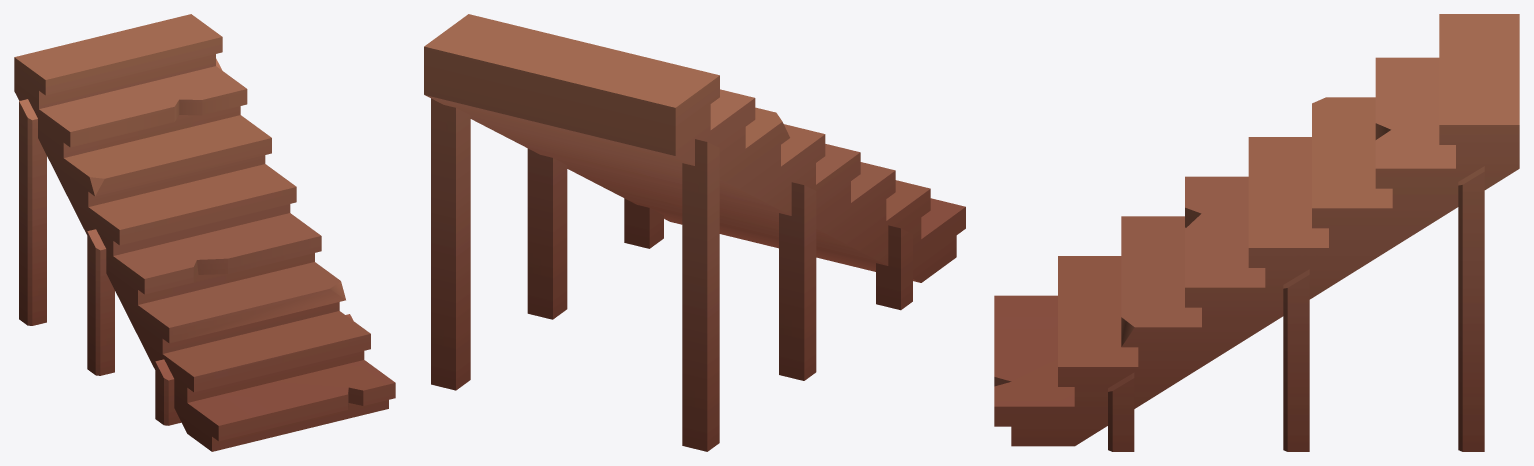
File: kaykit-dungeon-remastered-stairs-wood-gltf.glb
The picture shows the model from 3 angles, left to right: view 1: azimuth 30°, elevation 25°; view 2: azimuth 150°, elevation 25°; view 3: azimuth 270°, elevation 25°; orthographic projection. The views are drawn at different scales.
Visible parts, largest first — view 1: stairs_wood; view 2: stairs_wood; view 3: stairs_wood.
Boxes of the visible parts, x1,y1,x2,y2 form: stairs_wood: [14, 14, 395, 451]; stairs_wood: [424, 14, 965, 451]; stairs_wood: [994, 14, 1519, 451].
Size of the model in its own units: 3.3 by 4.05 by 6.
Materials: 1 (1 with a texture image).
